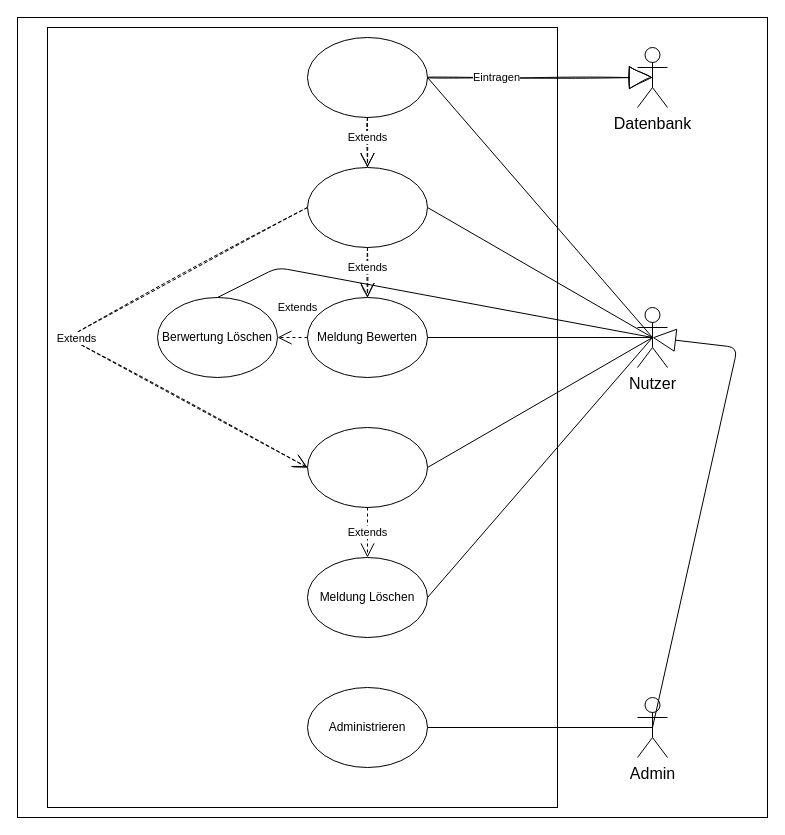
Image size: 785x835. Some labels were removed from this diagram. Each missing label, with the box of its shape:
Meldung Anzeigen: (306, 166, 428, 248)
Meldung Bearbeiten: (306, 426, 428, 508)
Meldung Erstellen: (306, 36, 428, 118)
